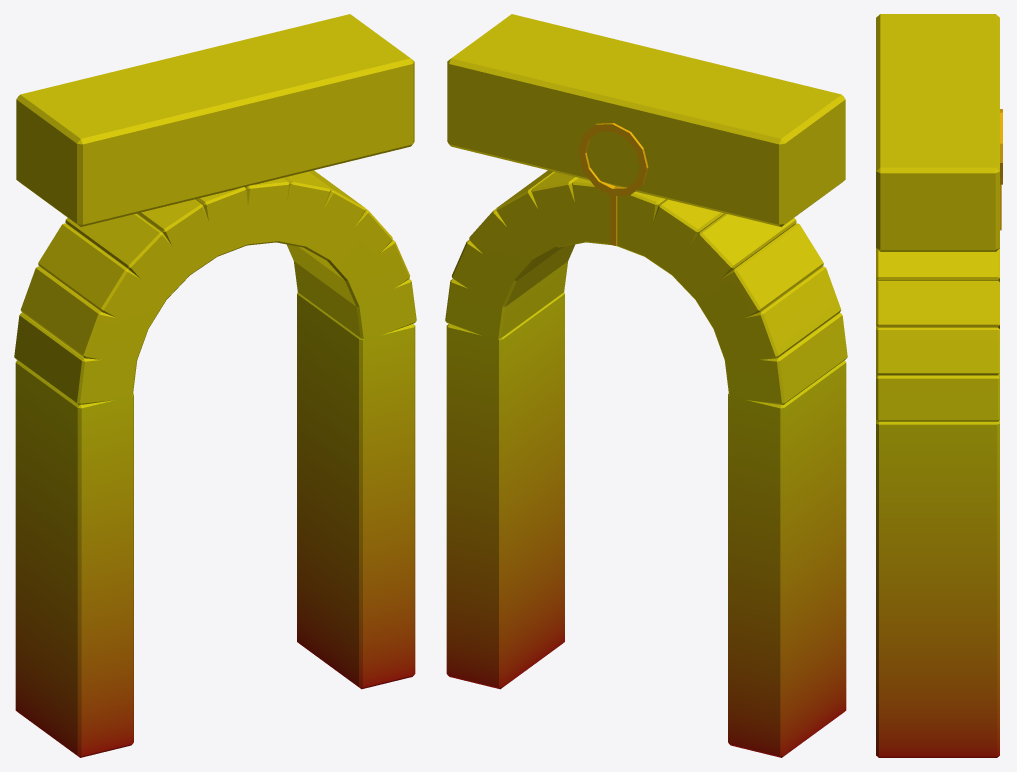
The model's file is door.glb.
3 views of the same model, side by side, from view 1: azimuth 30°, elevation 25°; view 2: azimuth 150°, elevation 25°; view 3: azimuth 270°, elevation 25° (orthographic). The views are drawn at different scales.
Visible parts, largest first — view 1: door; view 2: door; view 3: door.
Boxes of the visible parts, <box> form: door: <box>14,14,416,757</box>; door: <box>445,14,847,757</box>; door: <box>876,14,1002,757</box>.
Size of what is drawn, in the model's own units: 2.42 by 4.2 by 0.819.
